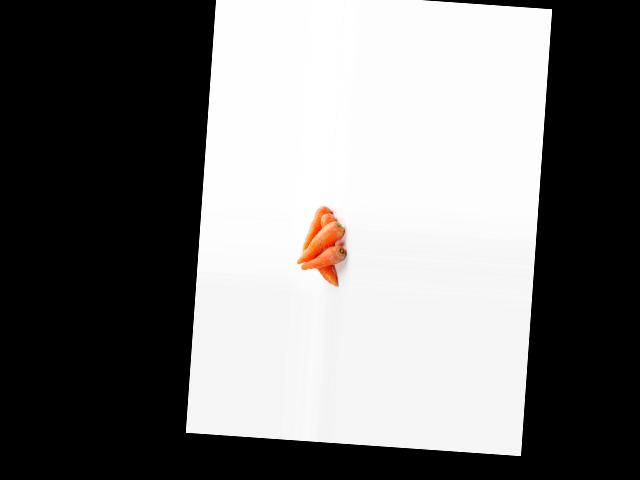carrot: (301, 242, 347, 274)
